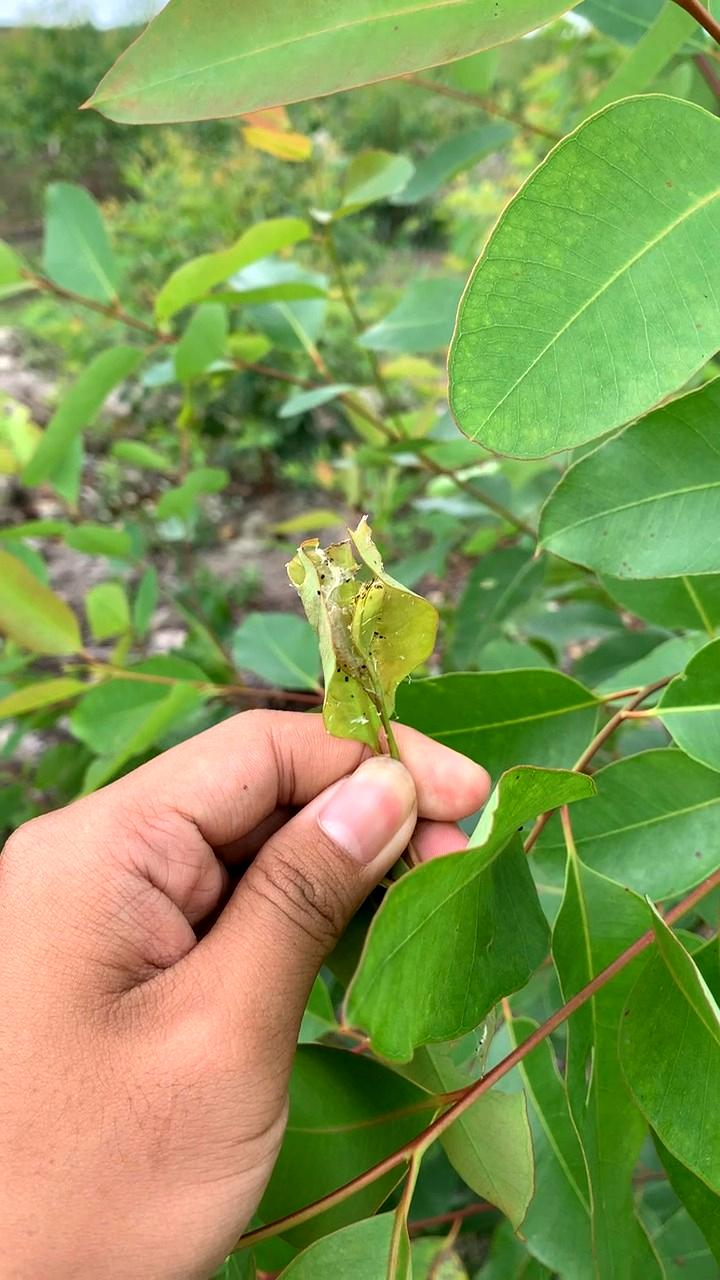Leaf Roller - Leaf: (276, 508, 447, 765)
